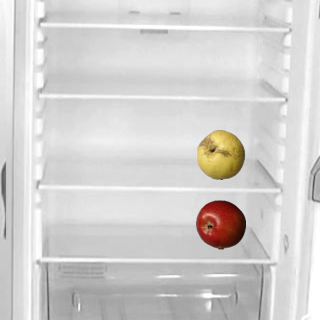Apple Braeburn: (195, 199, 245, 249)
Apple Golden 1: (195, 129, 245, 179)
